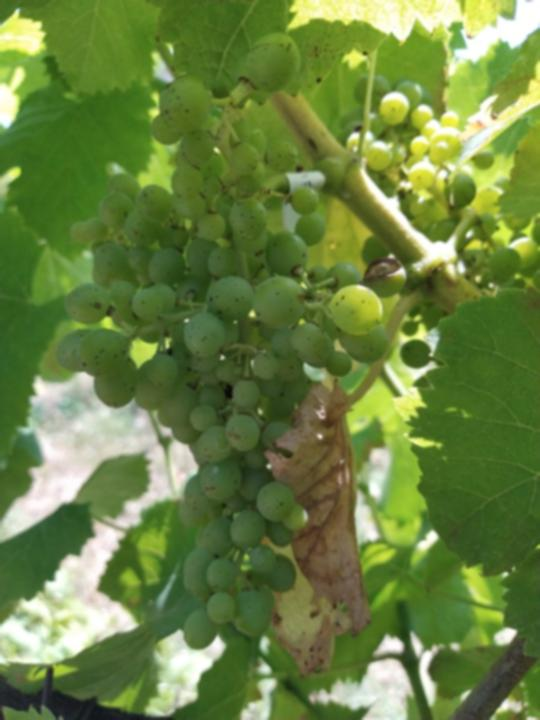grape: (57, 30, 409, 653)
